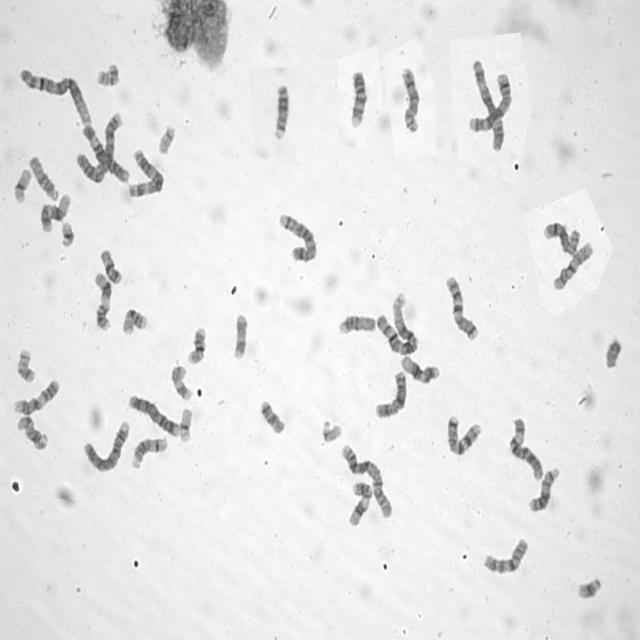A1: (18, 61, 94, 131), (374, 291, 421, 358)
A2: (338, 442, 393, 520), (75, 110, 125, 185)
A3: (470, 59, 506, 153), (126, 145, 165, 199)
B4: (83, 419, 131, 473), (126, 394, 180, 439)
B5: (468, 70, 513, 134), (275, 213, 320, 268)
C10: (552, 242, 596, 292), (483, 536, 530, 578)
C11: (92, 271, 114, 333), (347, 481, 374, 528)
C12: (39, 191, 73, 236), (399, 354, 441, 386)
C6: (80, 125, 132, 184), (508, 416, 544, 482)
C7: (443, 272, 481, 344), (443, 410, 482, 460)
C8: (398, 63, 422, 136), (540, 218, 581, 256)
C9: (11, 378, 63, 417), (349, 69, 369, 129)
D13: (526, 468, 562, 512), (268, 81, 292, 145)
D14: (130, 436, 168, 470), (15, 416, 50, 452)
D15: (28, 154, 60, 202), (336, 313, 377, 338)
E16: (186, 325, 208, 369), (122, 306, 150, 338)
E17: (232, 308, 250, 363), (170, 362, 194, 402)
E18: (259, 396, 288, 436), (98, 248, 123, 286)
F19: (10, 166, 32, 206), (179, 408, 195, 443)
F20: (11, 346, 39, 386), (95, 61, 122, 91)
G21: (573, 572, 608, 600), (57, 220, 76, 248)
G22: (319, 416, 345, 446), (156, 122, 178, 155)
X: (374, 370, 408, 420)
Y: (598, 335, 627, 375)
